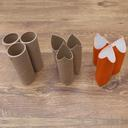cardboard: (6, 41, 33, 84), (20, 30, 42, 71), (94, 44, 114, 85), (55, 39, 72, 83), (66, 33, 82, 75), (110, 34, 125, 75), (92, 31, 107, 66), (50, 32, 65, 64), (1, 31, 18, 48)
